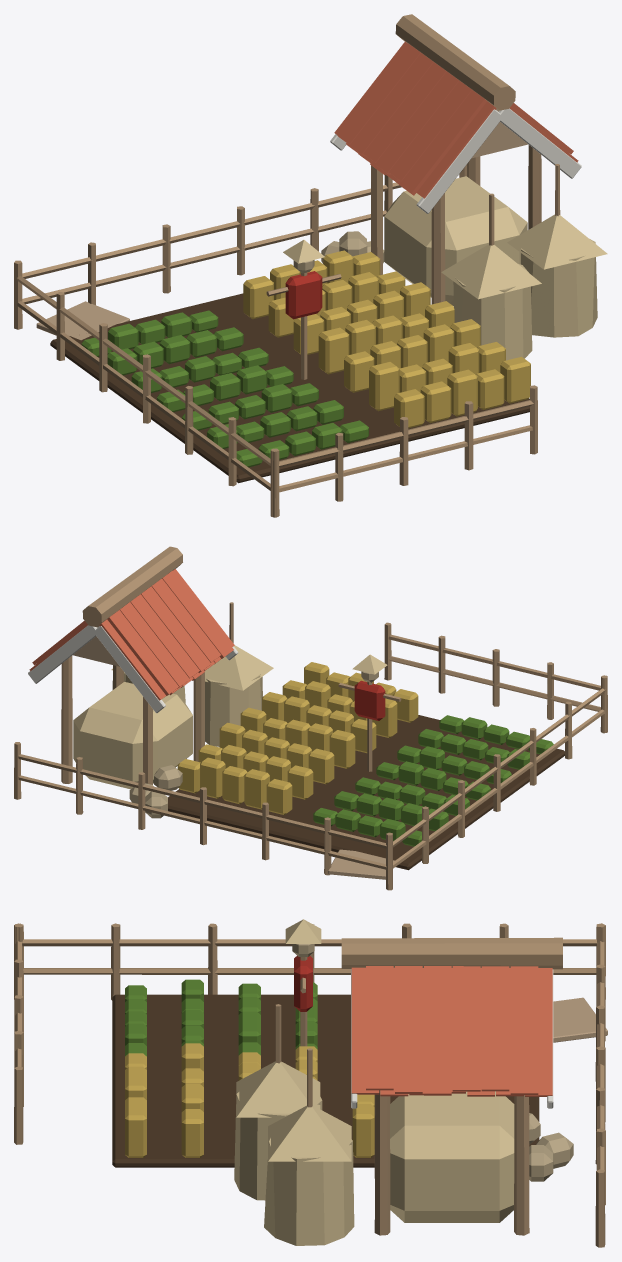
Rendered from bld_ferma_e1.glb.
The picture shows the model from 3 angles, top to bottom: view 1: azimuth 30°, elevation 25°; view 2: azimuth 150°, elevation 25°; view 3: azimuth 270°, elevation 25°; orthographic projection. The views are drawn at different scales.
Visible parts, largest first — view 1: ferma; view 2: ferma; view 3: ferma.
Boxes of the visible parts, x1,y1,x2,y2 form: ferma: (14, 14, 607, 517); ferma: (14, 546, 607, 890); ferma: (14, 919, 607, 1247).
Size of the model in its own units: 1.9 by 0.9267 by 1.88.
